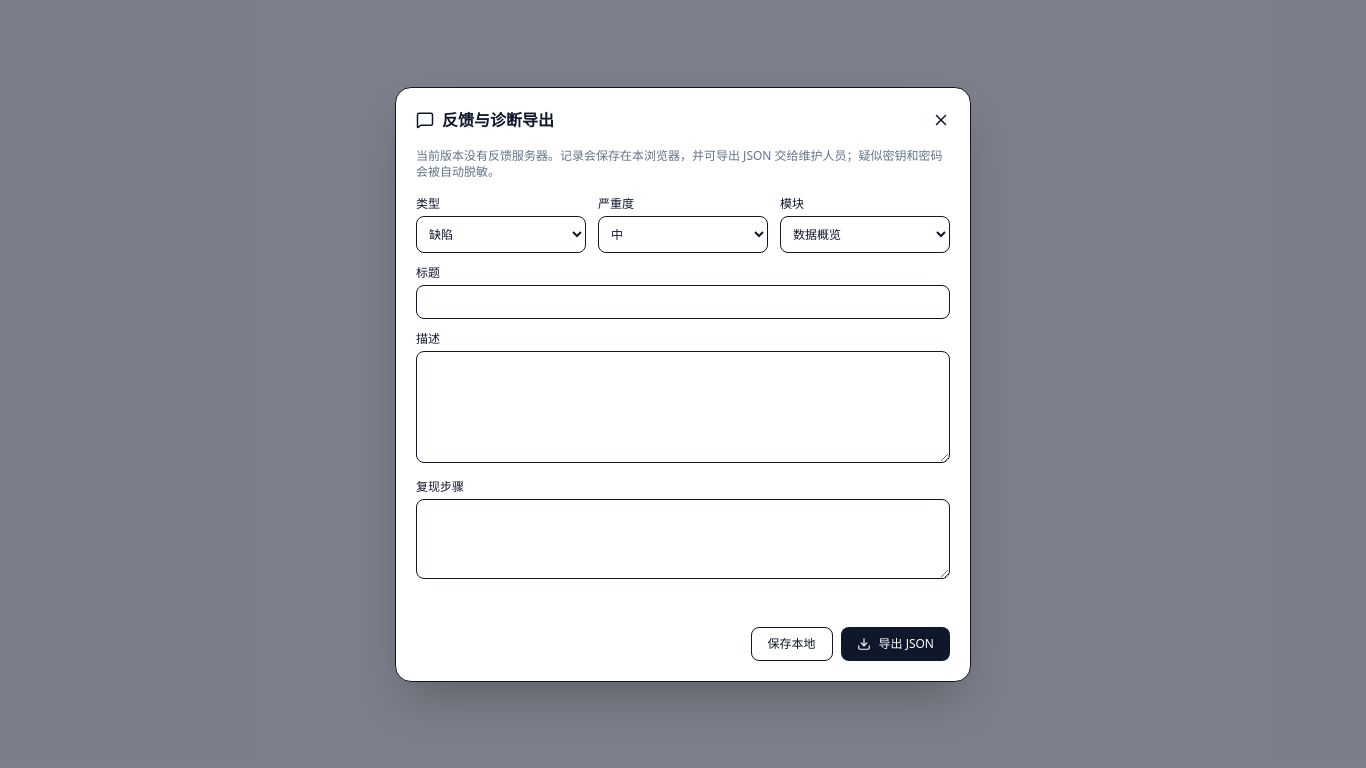
Test: feedback diagnostics › validates and saves feedback locally
Type "Graph issue" into the field with test id "feedback-title". click: (683, 302)
box: [416, 284, 950, 318]
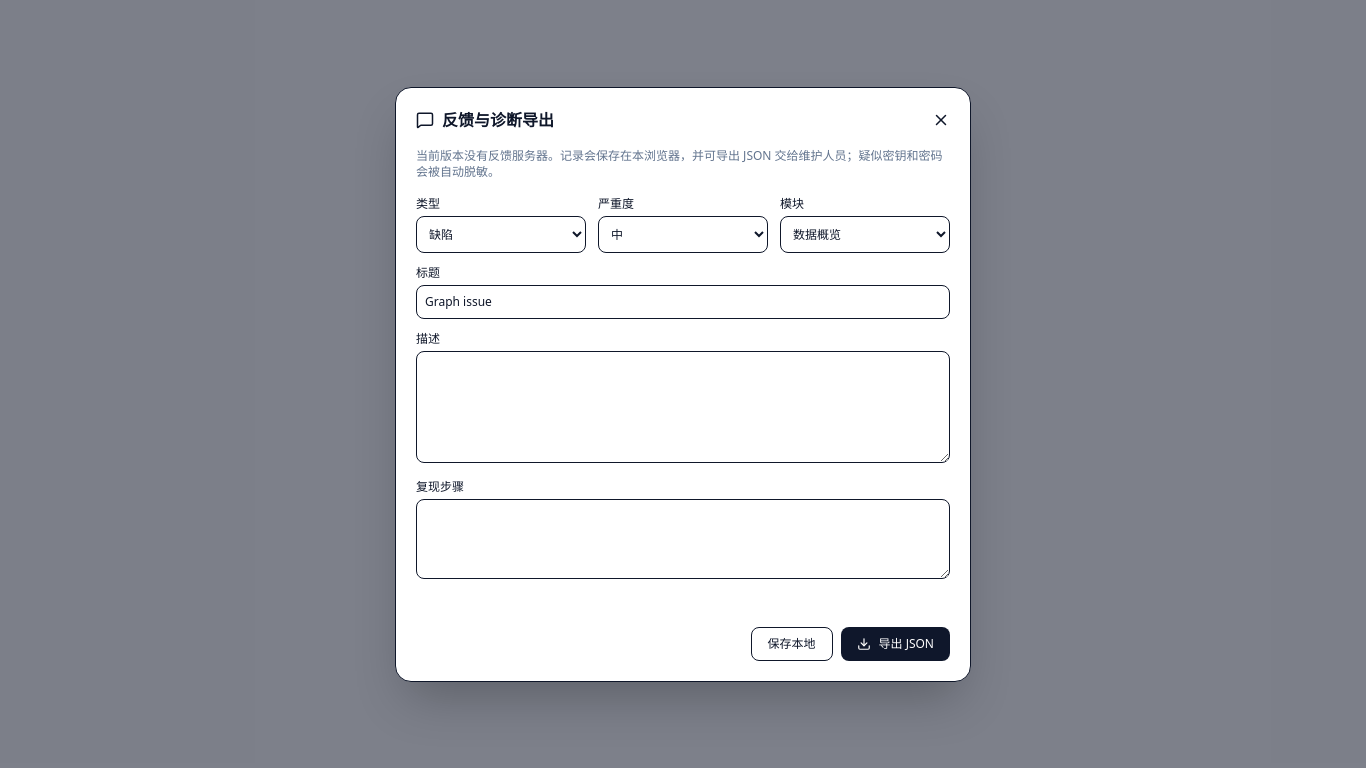
Type "The analysis graph did not update after a valid input." into the text box with test id "feedback-description". click: (683, 406)
box: [416, 350, 950, 462]
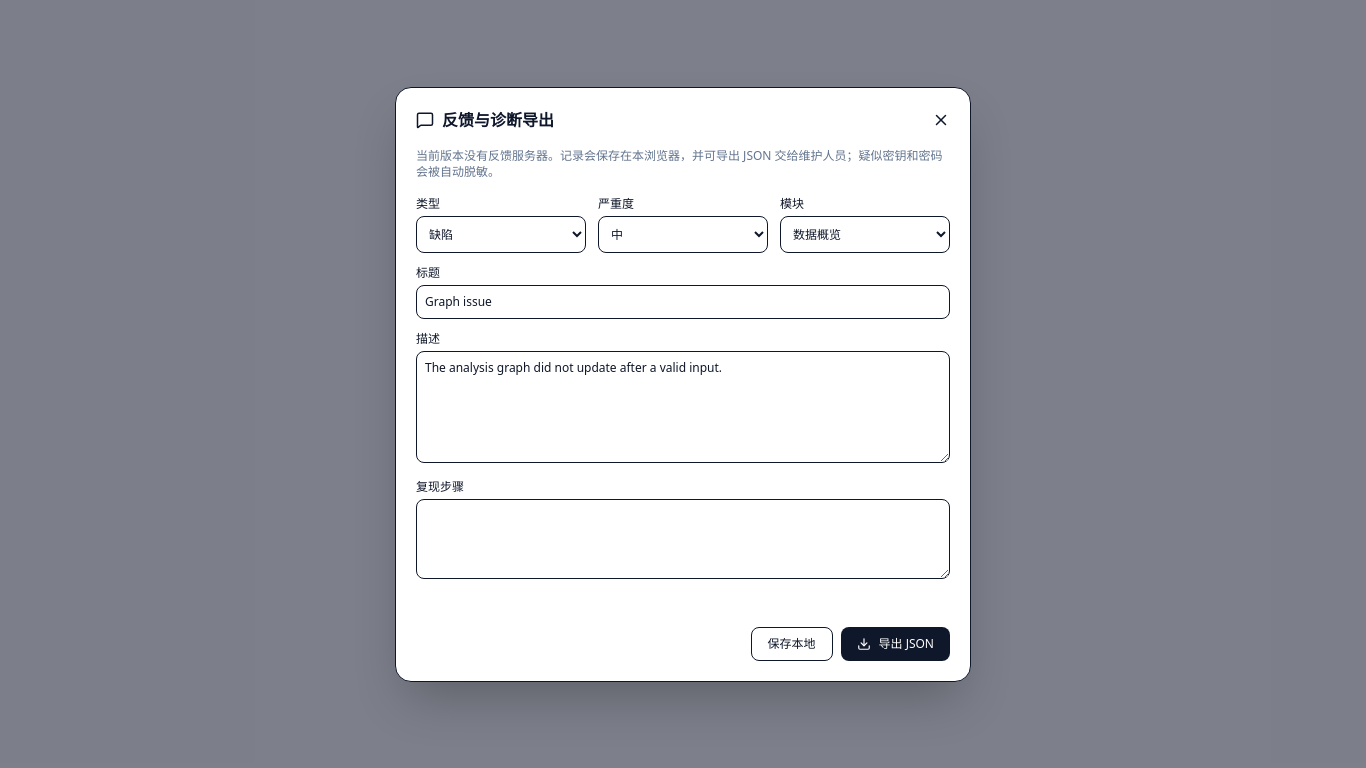
Click the button "保存本地". click: (792, 644)
box: [750, 626, 832, 660]
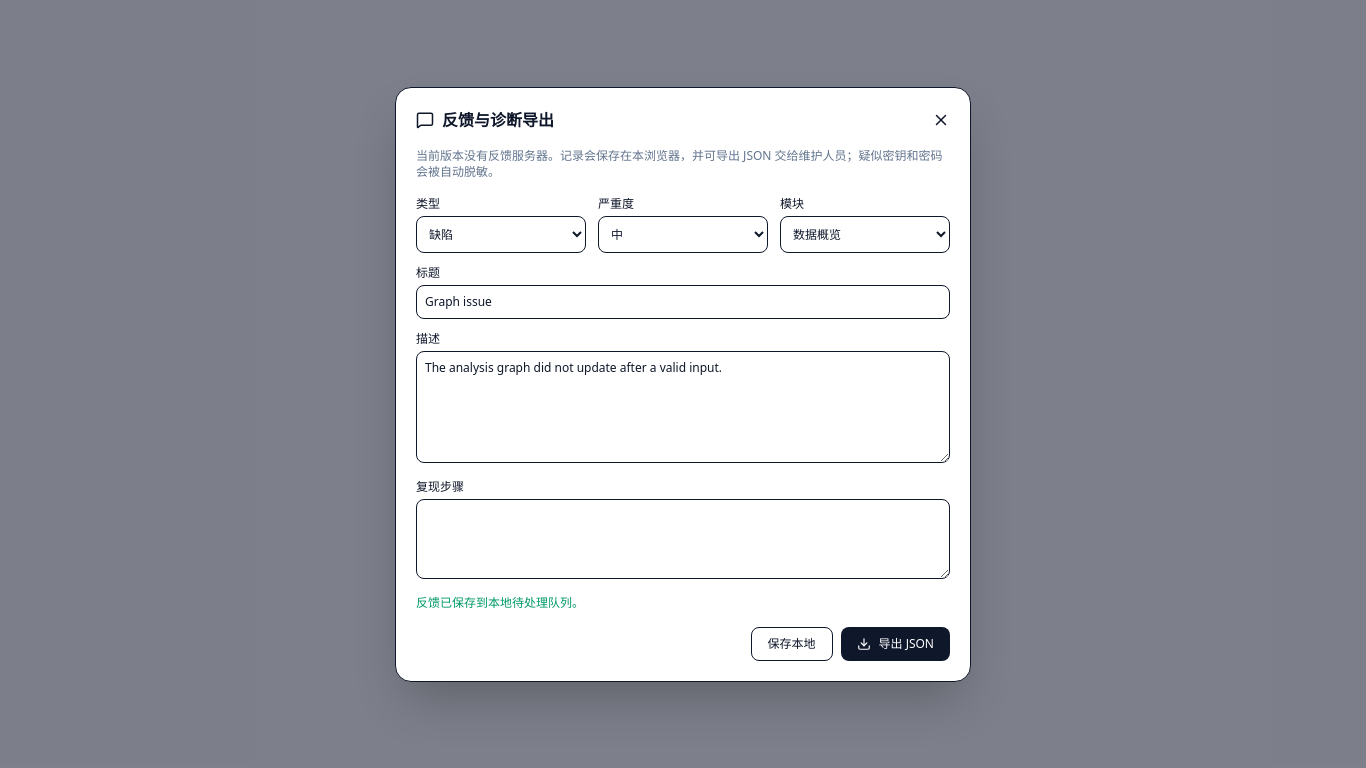
Check: the text "反馈已保存到本地待处理队列。" is shown, box [416, 594, 584, 610]
